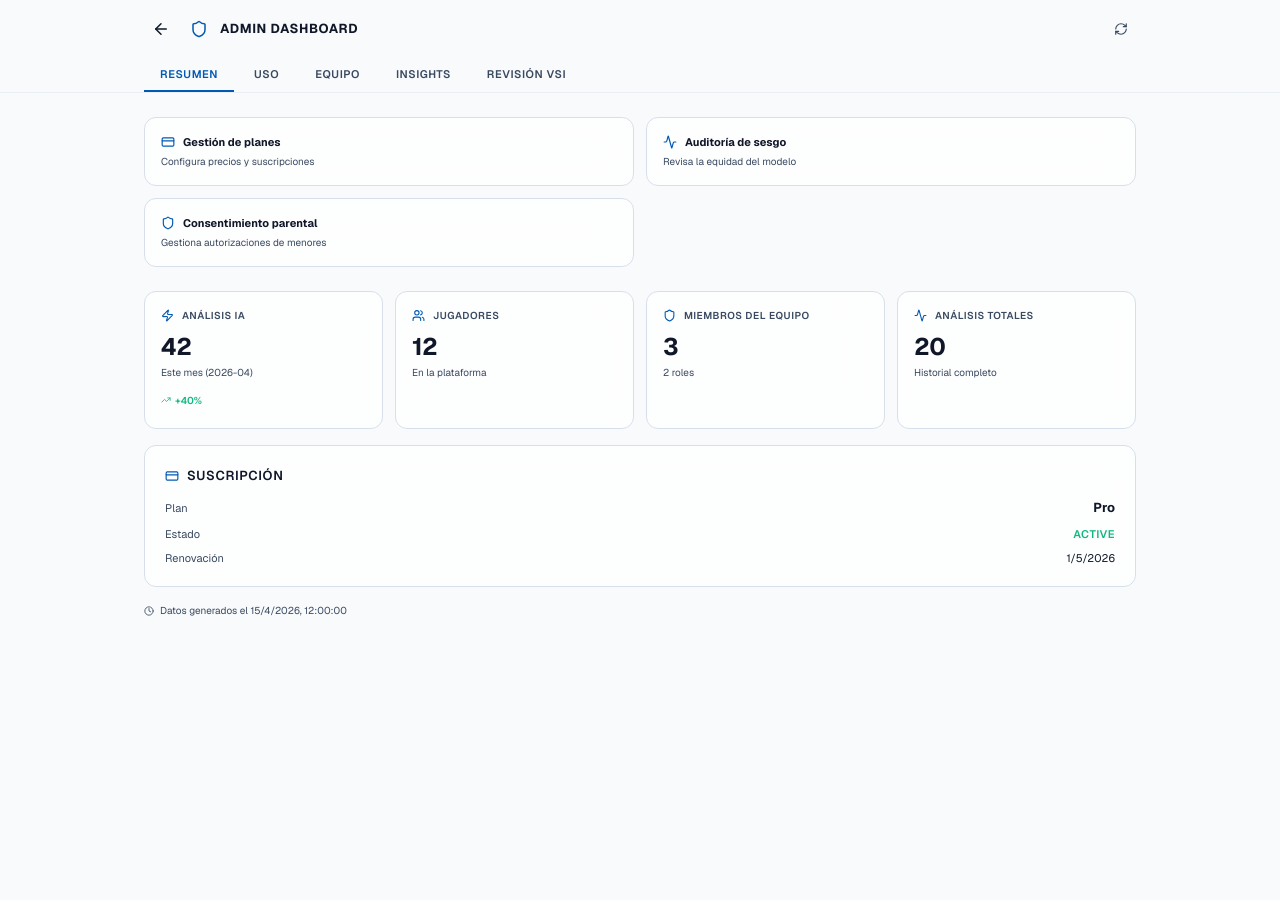
Test case: AdminDashboardPage › tabs con data cargada › tab Equipo muestra composición por rol
Click the button "Equipo".
click(338, 75)  # box [299,58,376,92]
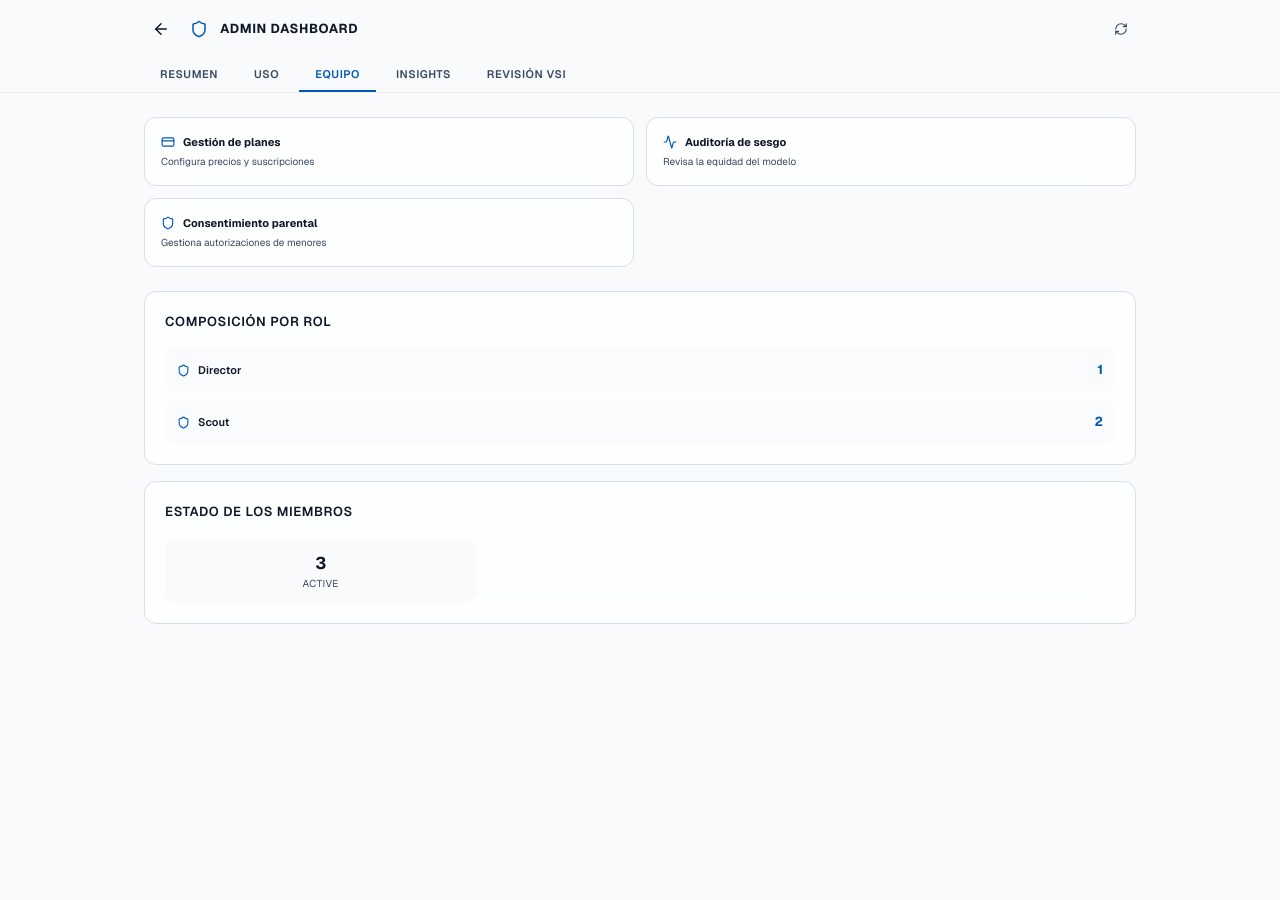
Expected: the heading "Composición por rol" is shown, [165,313,331,330]
Expected: the text "director" is shown, [198,362,241,378]
Expected: the text "scout" is shown, [198,414,230,430]
